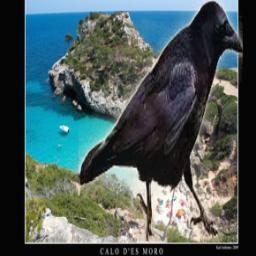Crow: (79, 0, 243, 243)
